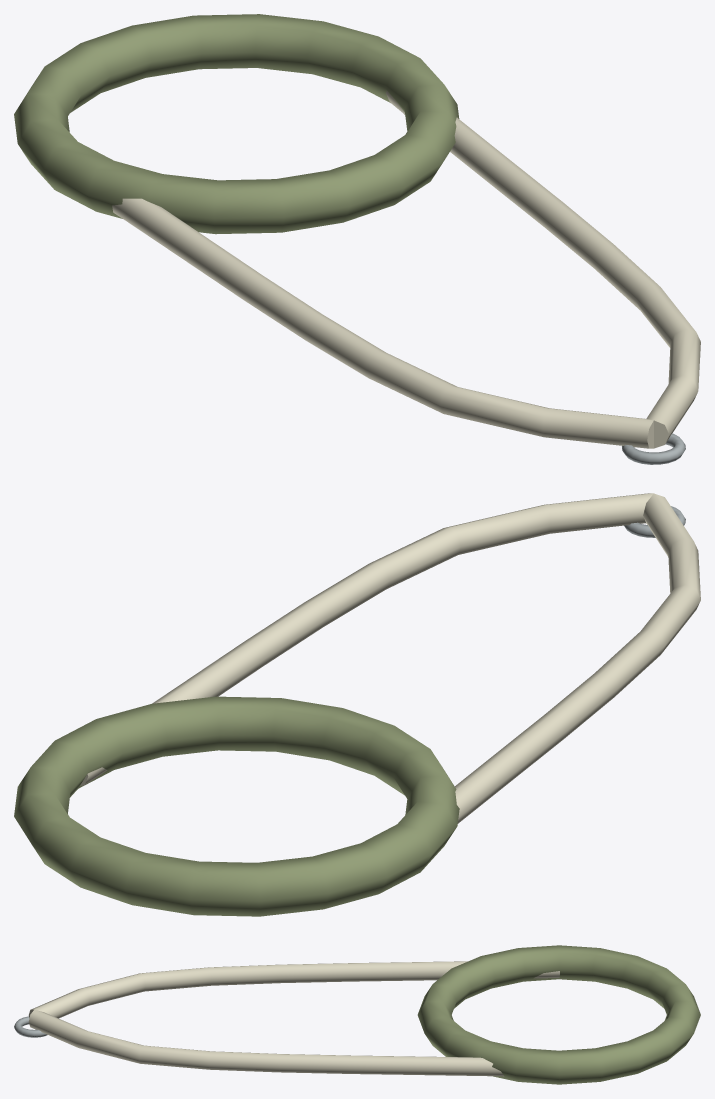
File: backpacks-and-expedition-storage-sled-hauling-harness-7b8729d5__21114.glb
3 renders of one model, top to bottom at view 1: azimuth 30°, elevation 25°; view 2: azimuth 150°, elevation 25°; view 3: azimuth 270°, elevation 25°, orthographic. The views are drawn at different scales.
Visible parts, largest first — view 1: sled-hauling-harness; view 2: sled-hauling-harness; view 3: sled-hauling-harness.
Part boxes in pixels (x1=…): sled-hauling-harness: x1=14, y1=14, x2=700, y2=464; sled-hauling-harness: x1=14, y1=493, x2=700, y2=916; sled-hauling-harness: x1=14, y1=945, x2=700, y2=1084.
Size of the model in its own units: 0.432 by 0.0477 by 1.05.
